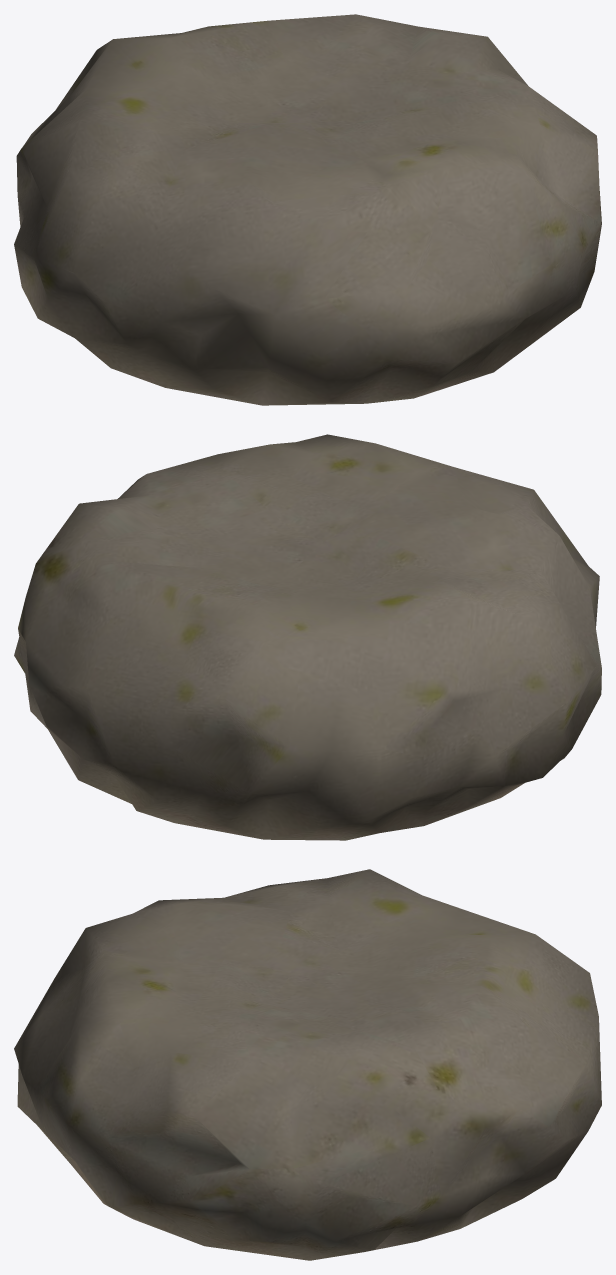
File: rock_a.glb
3 renders of one model, top to bottom at view 1: azimuth 30°, elevation 25°; view 2: azimuth 150°, elevation 25°; view 3: azimuth 270°, elevation 25°, orthographic. The views are drawn at different scales.
Visible parts, largest first — view 1: tripo_node_ec94b21c-b14c-4ddd-adc7-0f7289dd03ca; view 2: tripo_node_ec94b21c-b14c-4ddd-adc7-0f7289dd03ca; view 3: tripo_node_ec94b21c-b14c-4ddd-adc7-0f7289dd03ca.
Boxes of the visible parts, bbox=[...] form: tripo_node_ec94b21c-b14c-4ddd-adc7-0f7289dd03ca: bbox=[14, 14, 601, 405]; tripo_node_ec94b21c-b14c-4ddd-adc7-0f7289dd03ca: bbox=[14, 434, 601, 840]; tripo_node_ec94b21c-b14c-4ddd-adc7-0f7289dd03ca: bbox=[14, 869, 601, 1260].
Bounding box in the file's own units: 0.9722 × 0.3954 × 0.9767.
Materials: 1 (1 with a texture image).
